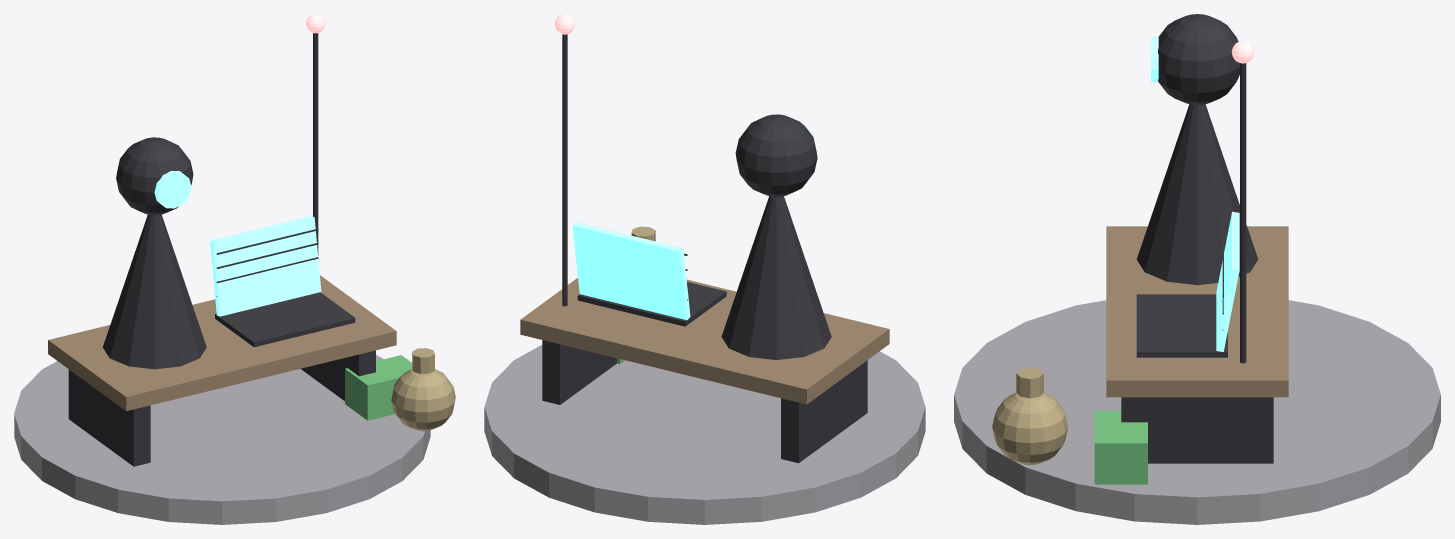
Rendered from Hacker_L1.fbx.
3 views of the same model, side by side, from view 1: azimuth 30°, elevation 25°; view 2: azimuth 150°, elevation 25°; view 3: azimuth 270°, elevation 25° (orthographic). The views are drawn at different scales.
Parts seen in each view (by area): view 1: Hacker_L1.001; view 2: Hacker_L1.001; view 3: Hacker_L1.001.
Part boxes in pixels (x1,y1,x2,y2): Hacker_L1.001: (14, 14, 455, 524); Hacker_L1.001: (484, 14, 925, 524); Hacker_L1.001: (954, 14, 1440, 524).
Size of the model in its own units: 3.2 by 3.23 by 3.2.
